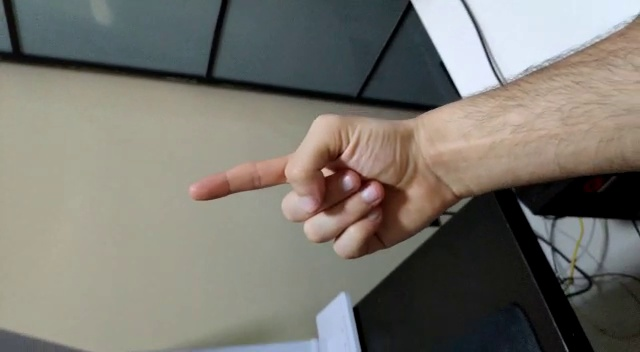One: (190, 106, 416, 263)
